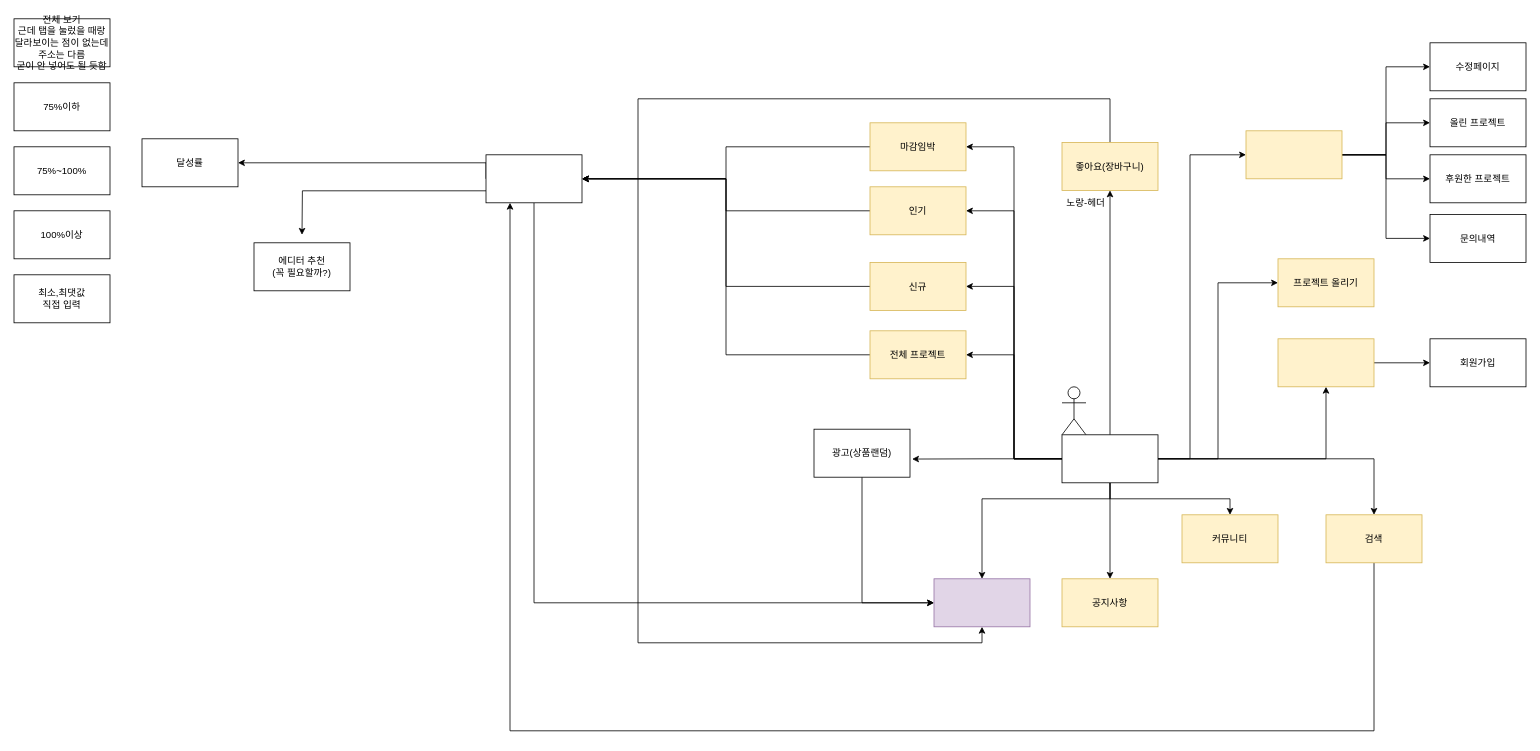
Some shapes in this 1540 by 751 pixel diagram are drawn without their labels. Each missing label, with the centre of its shape:
Actor: point 1073,410
개별 상품 이미지: point 981,602
로그인: point 1325,362
메인페이지: point 1109,458
상품목록: point 533,178
프로필: point 1293,154
